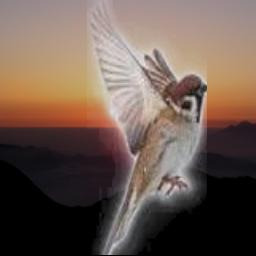Sparrow: (87, 0, 207, 255)
